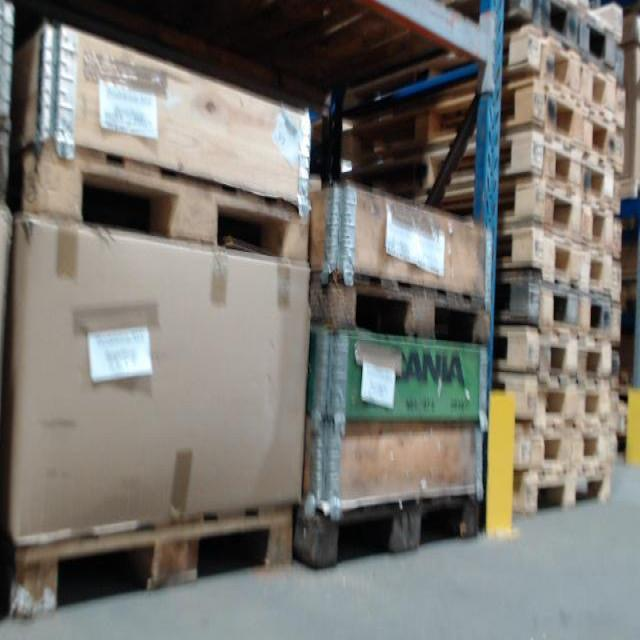pallet: (8, 491, 300, 622), (18, 135, 311, 258), (349, 32, 620, 118), (343, 81, 625, 162), (295, 481, 484, 571), (310, 268, 494, 348), (363, 158, 622, 200), (501, 272, 626, 339), (506, 230, 625, 299), (496, 183, 625, 246), (498, 323, 622, 382), (517, 4, 622, 59), (508, 381, 622, 424), (509, 425, 623, 465), (520, 467, 618, 510)
